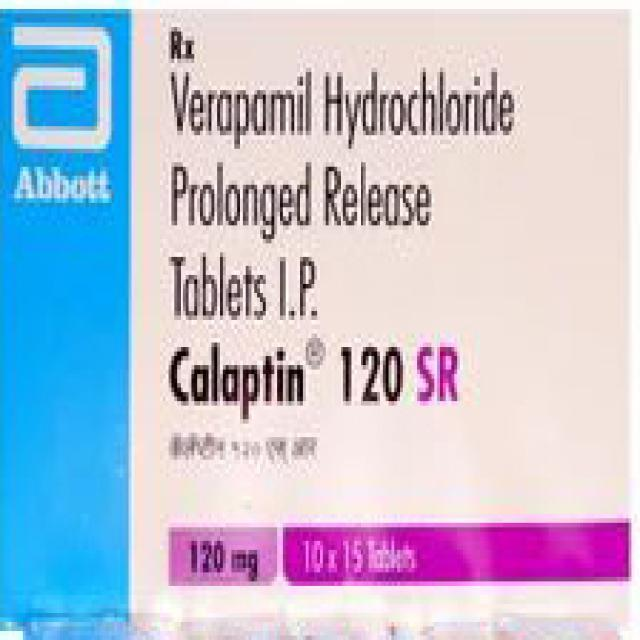drug-name: (158, 328, 460, 423)
